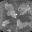people: (18, 4, 28, 15), (17, 19, 27, 30), (4, 2, 14, 12), (2, 19, 12, 27), (7, 11, 18, 18)
